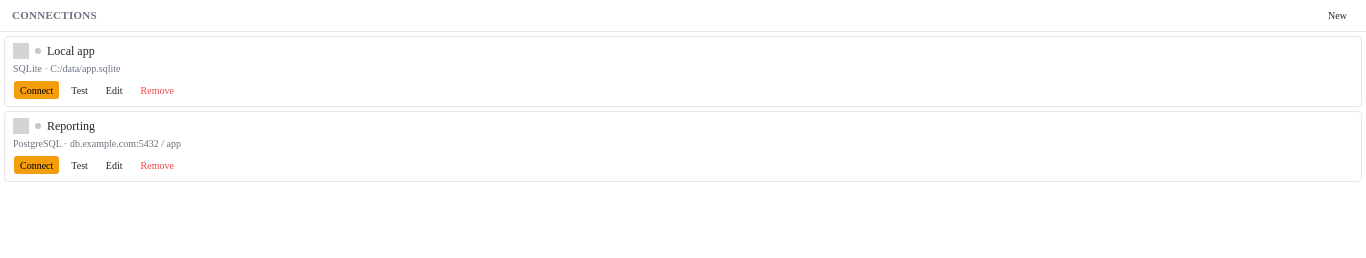
it: ConnectionManager › connects a profile and marks the active target
Expected: the text "Local app" is shown, top-left (47, 44), bottom-right (95, 58)
Click the button with aria-label "Connect Local app": click(37, 90) top-left (13, 80), bottom-right (60, 100)
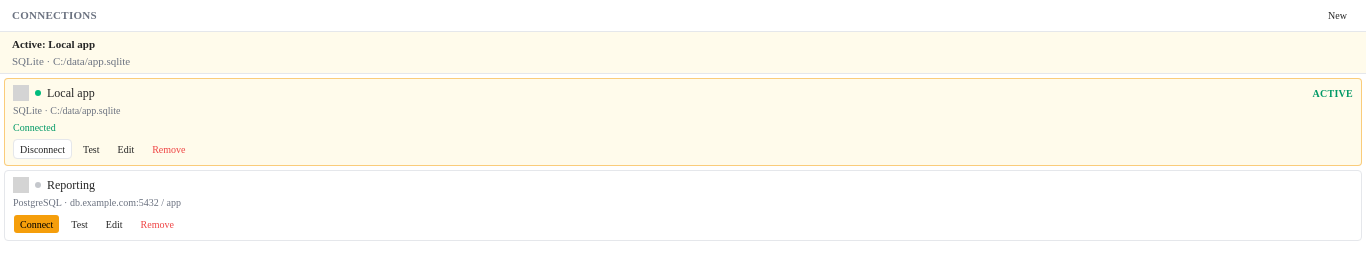
Expected: the text "Active: Local app" is shown, top-left (12, 38), bottom-right (95, 50)
Expected: the button "Disconnect" is shown, top-left (13, 139), bottom-right (72, 159)
